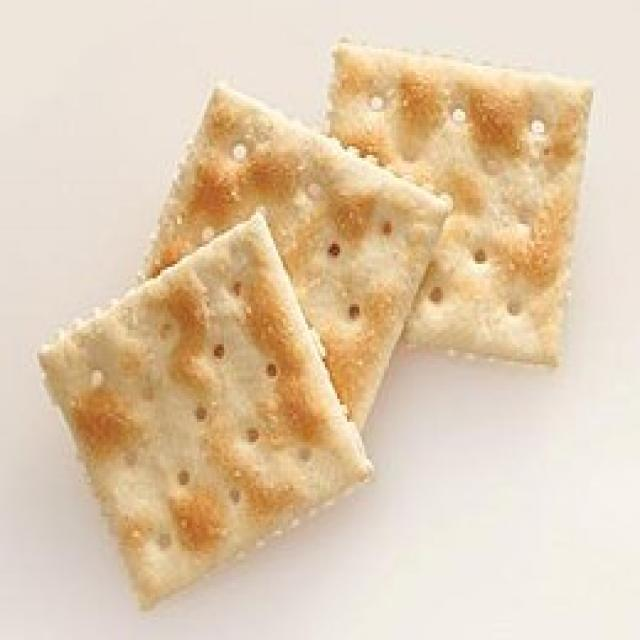Cracker: (32, 215, 374, 623), (130, 83, 462, 471), (300, 29, 603, 379)
